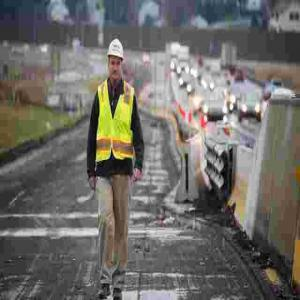white: (106, 40, 126, 83)
